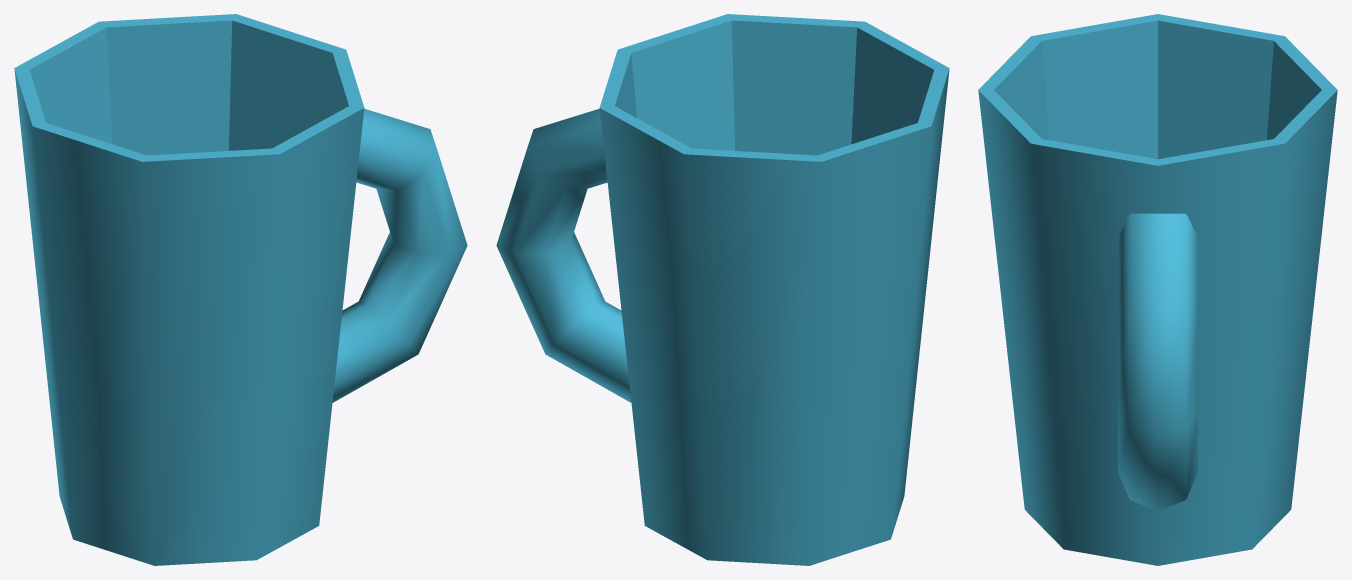
Rendered from Itr_Obj_Cup2_04.FBX.
The picture shows the model from 3 angles, left to right: view 1: azimuth 30°, elevation 25°; view 2: azimuth 150°, elevation 25°; view 3: azimuth 270°, elevation 25°; orthographic projection.
Parts seen in each view (by area): view 1: Itr_Obj_Cup2_04; view 2: Itr_Obj_Cup2_04; view 3: Itr_Obj_Cup2_04.
Part boxes in pixels (x1,y1,x2,y2): Itr_Obj_Cup2_04: (14, 14, 467, 565); Itr_Obj_Cup2_04: (496, 14, 949, 565); Itr_Obj_Cup2_04: (978, 14, 1337, 565).
Bounding box in the file's own units: 5.97 × 5.6 × 4.35.
